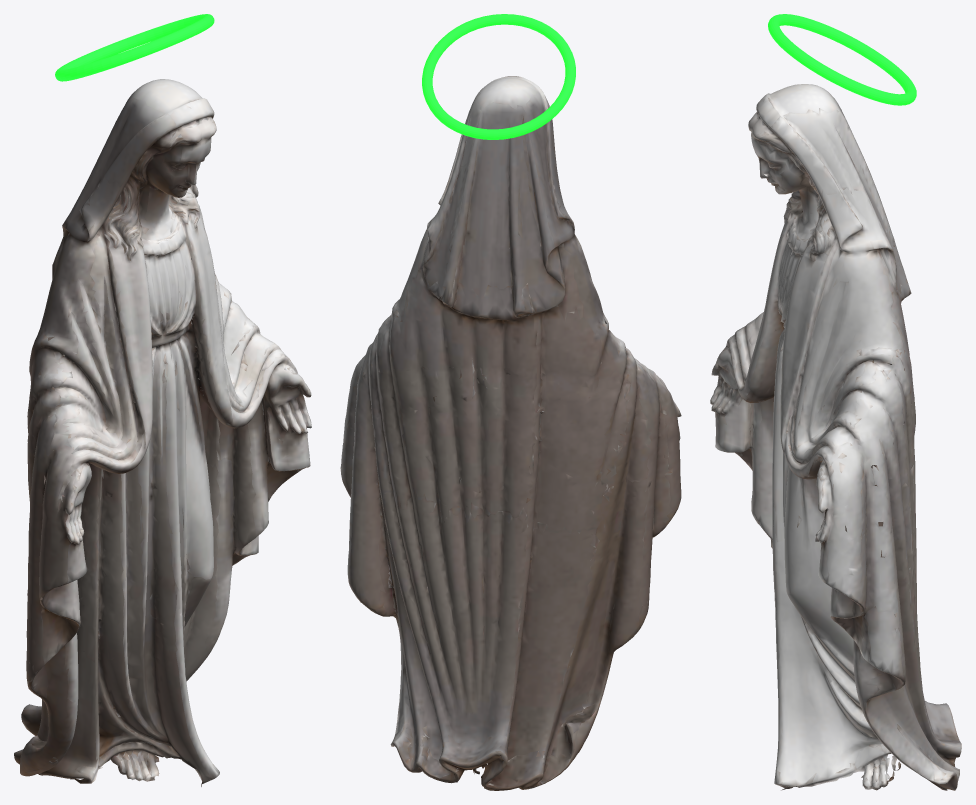
File: statue3.glb
The picture shows the model from 3 angles, left to right: view 1: azimuth 30°, elevation 25°; view 2: azimuth 150°, elevation 25°; view 3: azimuth 270°, elevation 25°; orthographic projection. The views are drawn at different scales.
Parts seen in each view (by area): view 1: Statue; view 2: Statue; view 3: Statue.
Boxes of the visible parts, bbox=[...] form: Statue: bbox=[14, 14, 311, 786]; Statue: bbox=[340, 14, 681, 790]; Statue: bbox=[710, 14, 961, 790].
Size of the model in its own units: 18.91 by 44.36 by 13.34.
2 materials, 1 textured.
